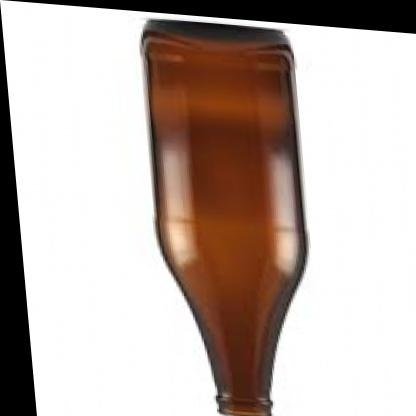trash: (143, 21, 306, 415)
